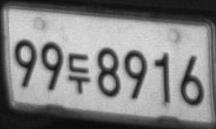1: (151, 52, 178, 103)
6: (179, 54, 204, 105)
8: (95, 46, 121, 97)
9: (123, 49, 148, 99), (40, 40, 64, 90), (14, 38, 37, 88)
두: (67, 52, 91, 94)
